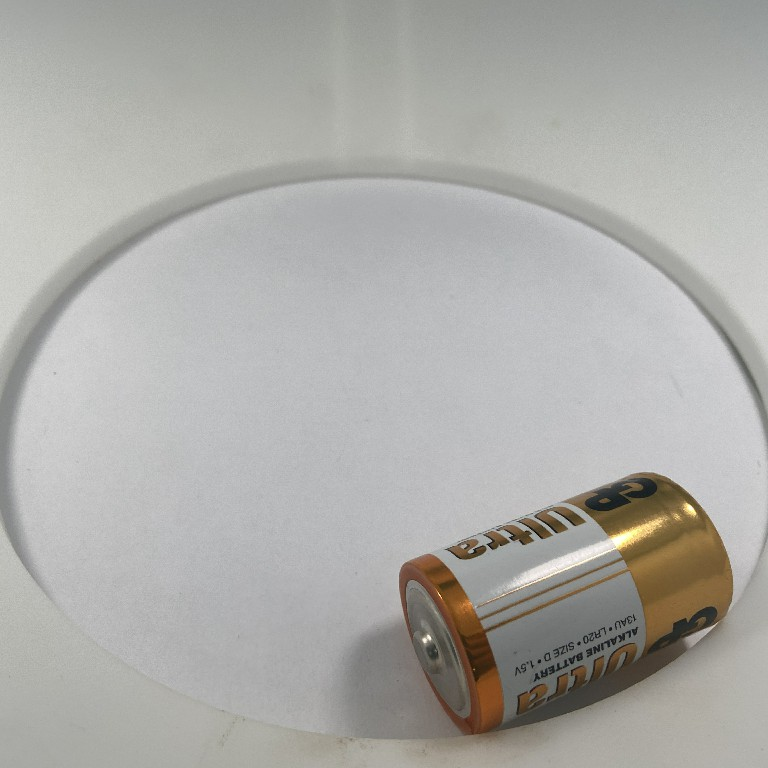charge: (390, 465, 737, 739)
